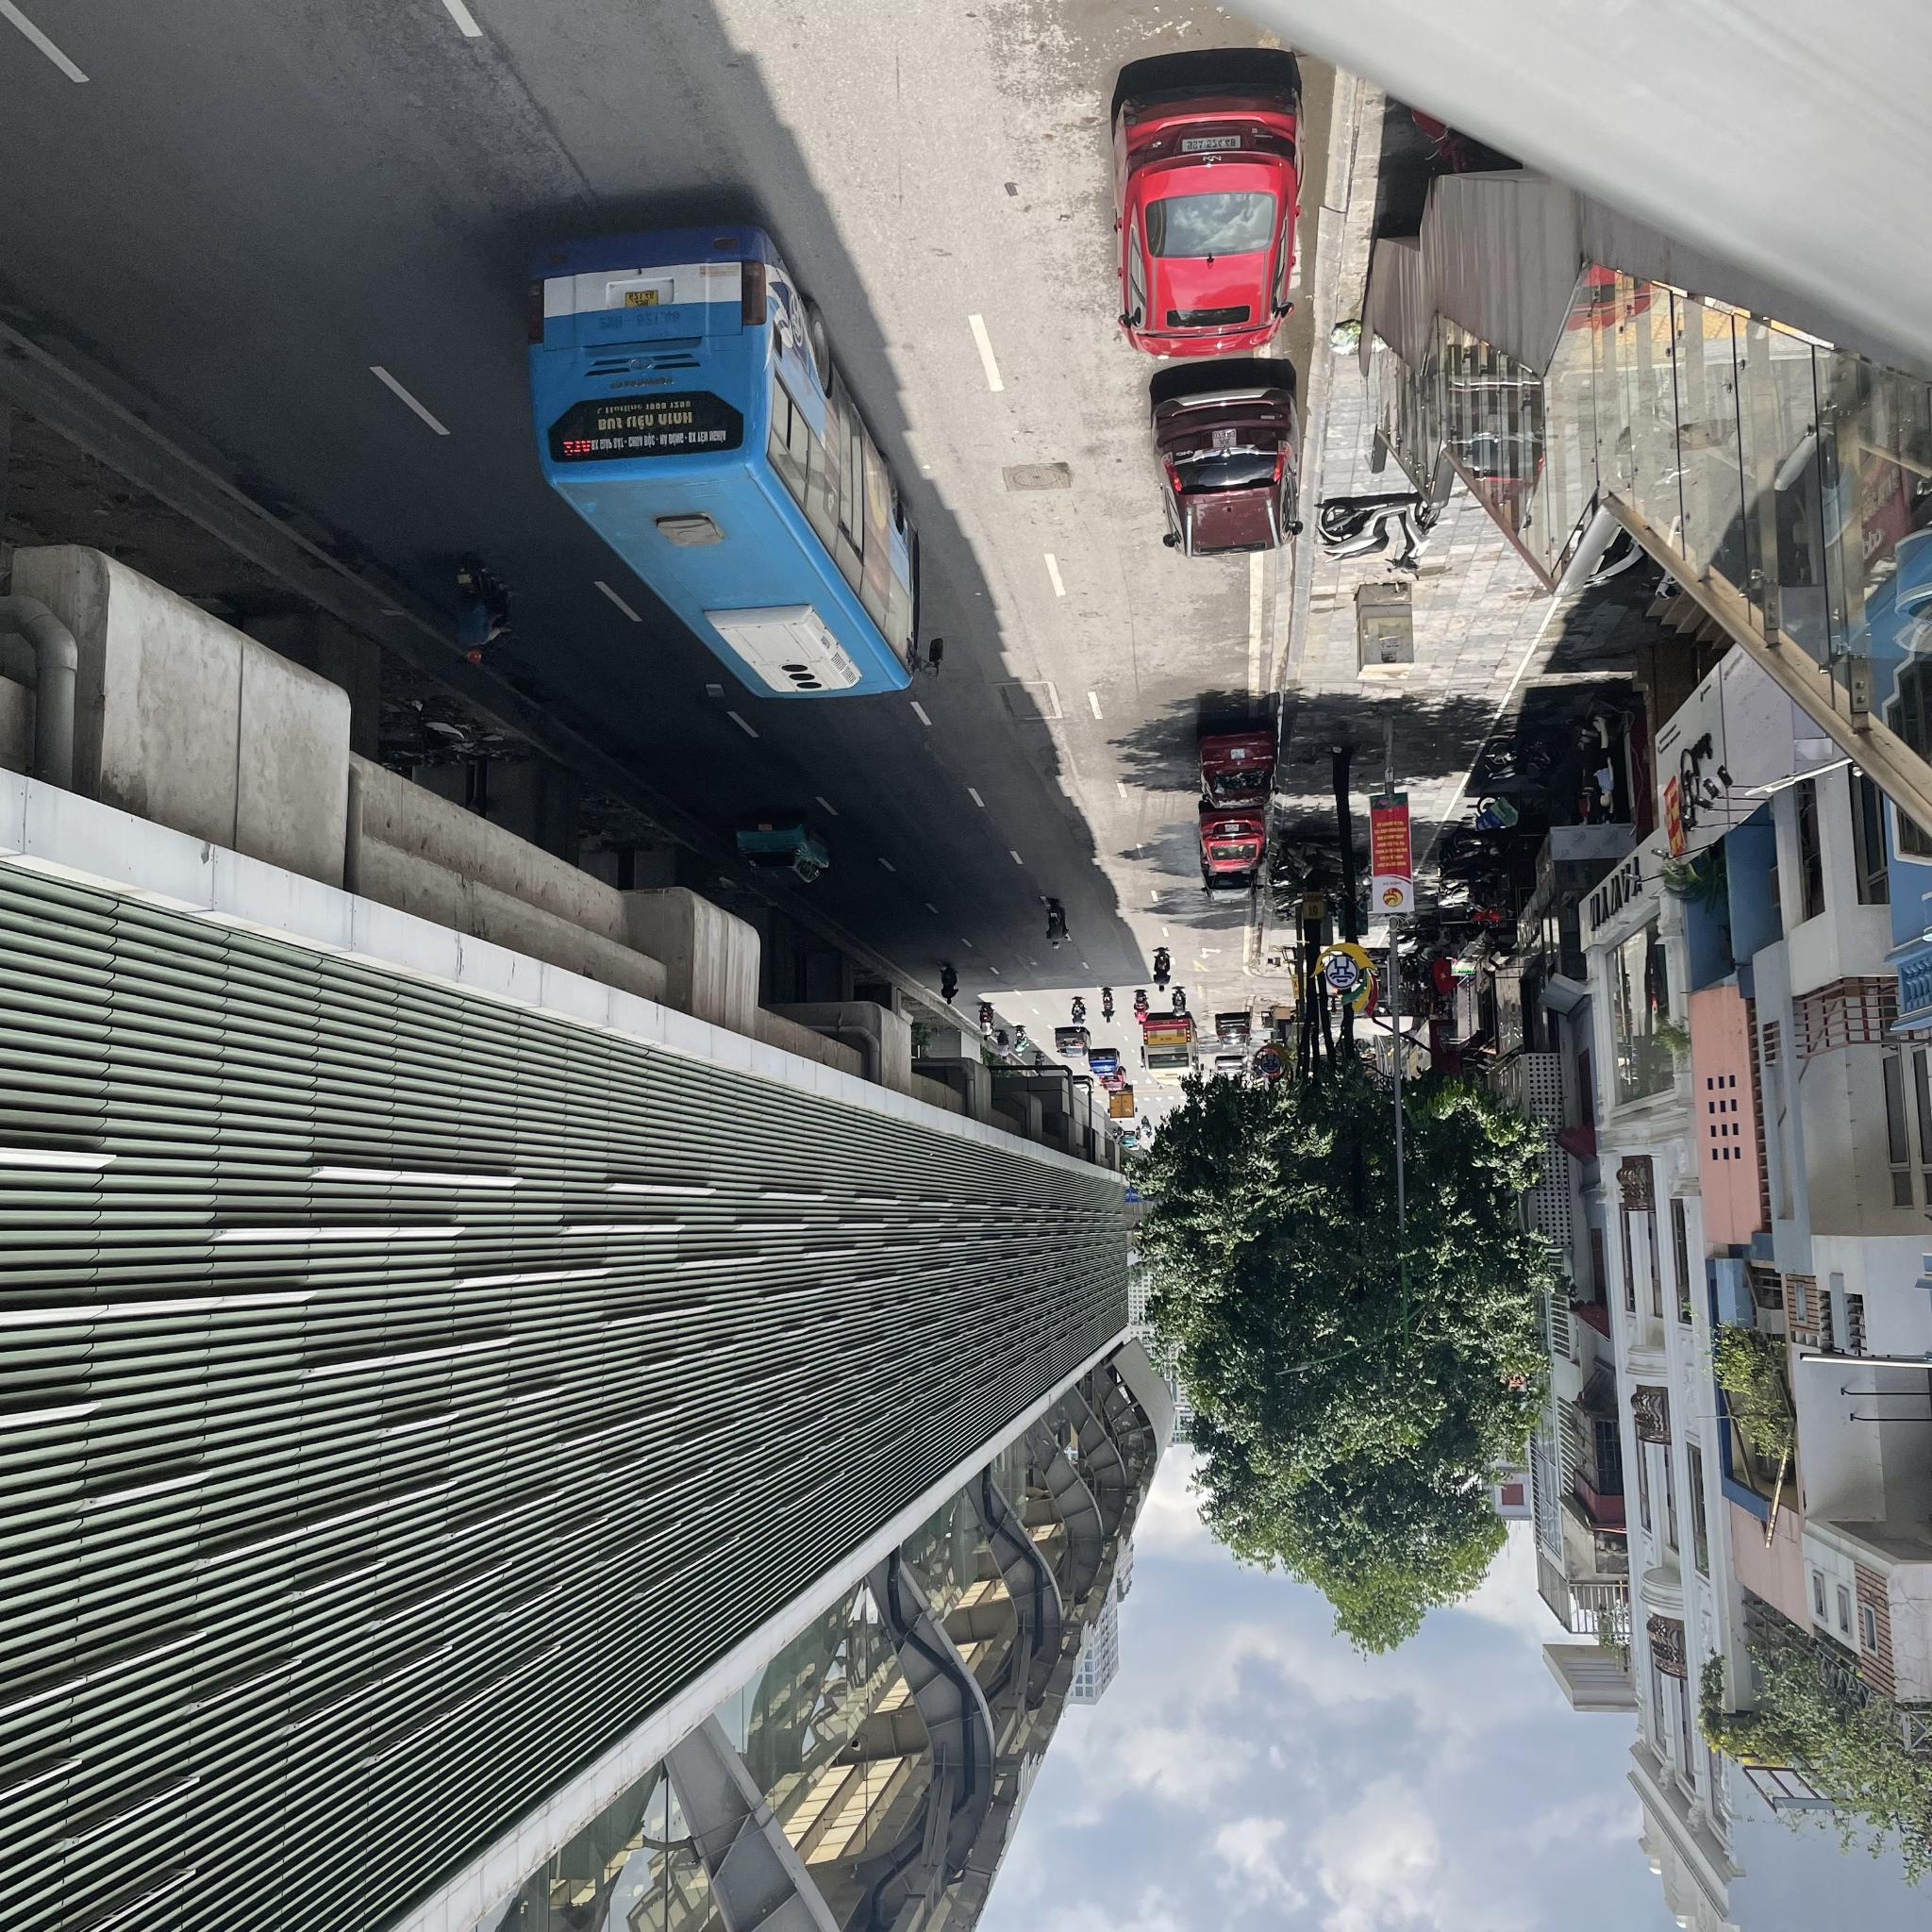car: (521, 204, 946, 702), (1108, 77, 1307, 358), (1149, 371, 1304, 561), (734, 808, 835, 885), (1198, 724, 1280, 810), (1198, 806, 1268, 873), (1141, 1016, 1203, 1087), (1199, 845, 1264, 903), (1043, 901, 1071, 957), (1215, 1013, 1252, 1049), (1054, 1028, 1092, 1058), (1087, 1051, 1122, 1077), (1304, 358, 1313, 360)
motobike: (450, 558, 521, 665), (1153, 949, 1171, 992), (940, 965, 958, 1004), (977, 1003, 995, 1041), (1132, 990, 1149, 1026), (1070, 996, 1087, 1033), (1171, 988, 1188, 1024), (994, 1029, 1011, 1061), (1100, 988, 1115, 1024), (1013, 1027, 1030, 1057)
